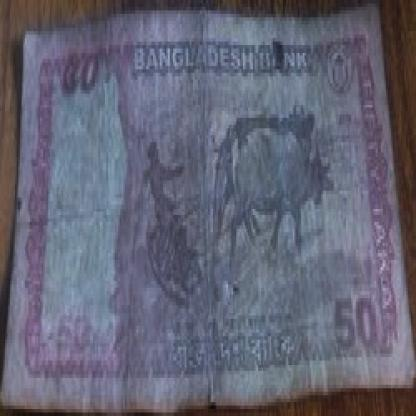Fifty taka: (330, 277, 386, 357), (52, 45, 103, 132)
